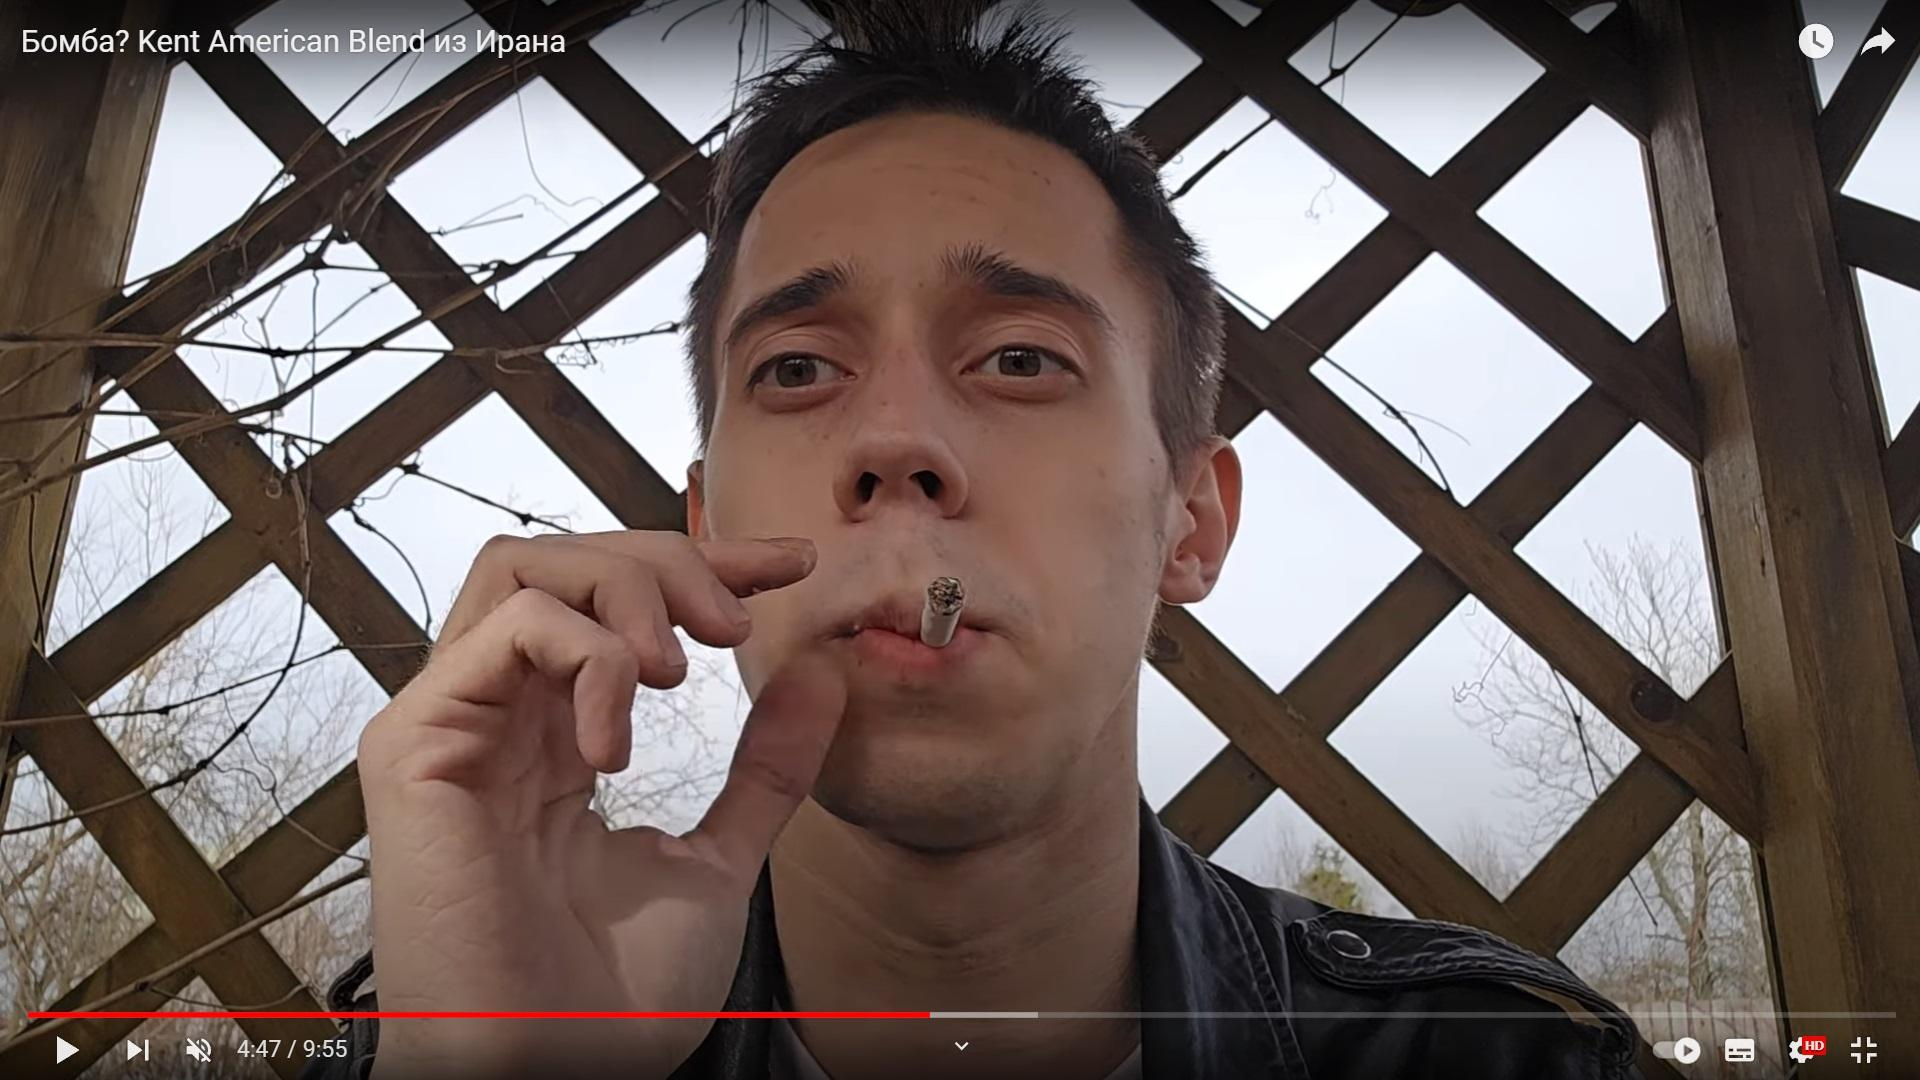cigarette: (920, 575, 965, 649)
